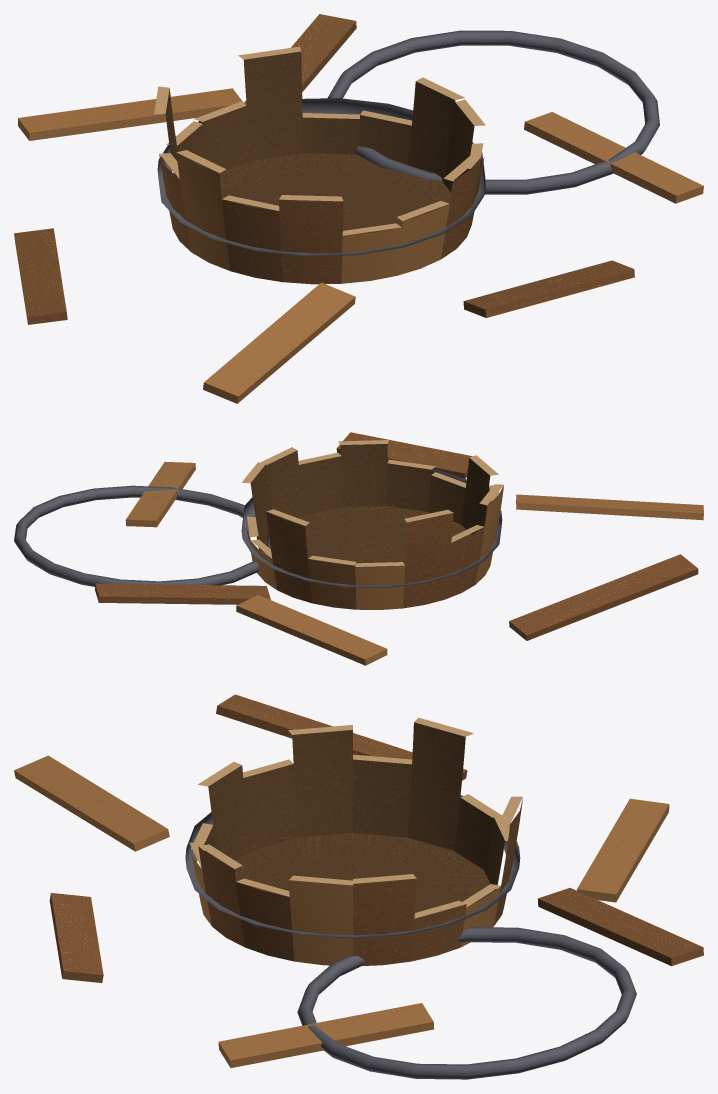
The model's file is barrel_broken.glb.
3 views of the same model, one above another, from view 1: azimuth 30°, elevation 25°; view 2: azimuth 150°, elevation 25°; view 3: azimuth 270°, elevation 25° (orthographic). The views are drawn at different scales.
Visible parts, largest first — view 1: prop_barrel_broken; view 2: prop_barrel_broken; view 3: prop_barrel_broken.
Boxes of the visible parts, x1,y1,x2,y2 form: prop_barrel_broken: (14,14,703,403); prop_barrel_broken: (14,432,703,665); prop_barrel_broken: (14,694,703,1079).
Size of the model in its own units: 3.35 by 0.5423 by 2.72.
Materials: 1 (1 with a texture image).
